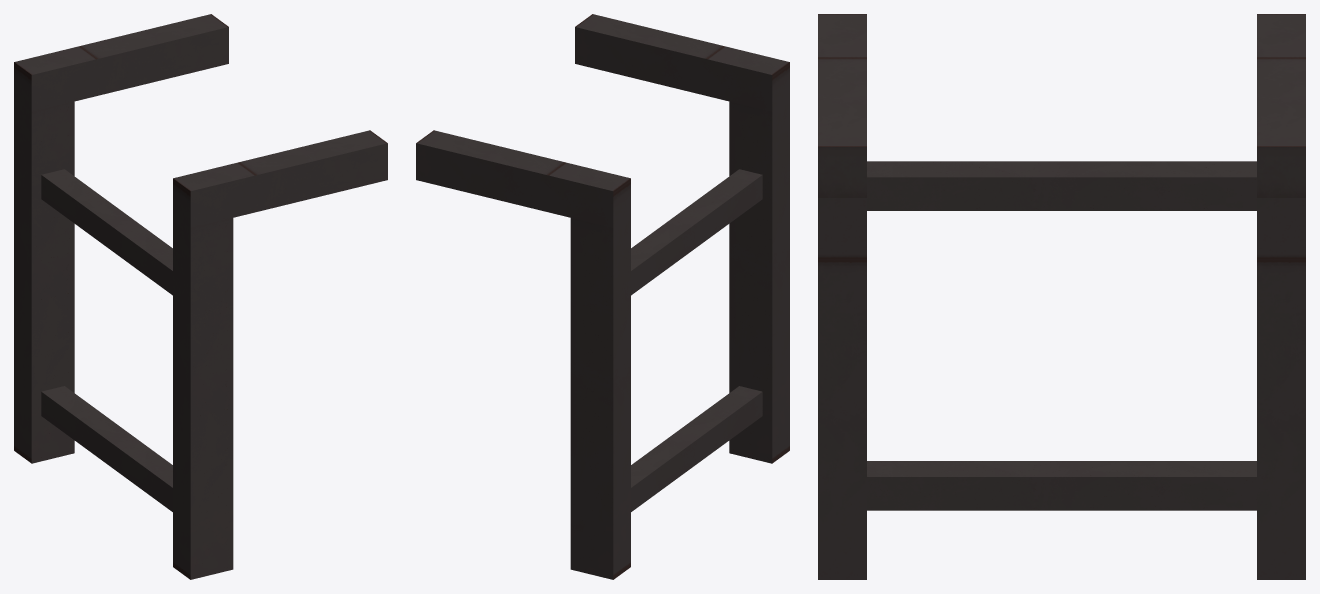
Rendered from Ladder_02.fbx.
3 views of the same model, side by side, from view 1: azimuth 30°, elevation 25°; view 2: azimuth 150°, elevation 25°; view 3: azimuth 270°, elevation 25° (orthographic). The views are drawn at different scales.
Visible parts, largest first — view 1: Ladder-02_LOD0; view 2: Ladder-02_LOD0; view 3: Ladder-02_LOD0.
Part boxes in pixels (bbox=[...]): Ladder-02_LOD0: bbox=[14, 14, 387, 579]; Ladder-02_LOD0: bbox=[416, 14, 789, 579]; Ladder-02_LOD0: bbox=[818, 14, 1305, 579].
Size of what is drawn, in the model's own units: 0.5808 by 0.9003 by 1.09.
